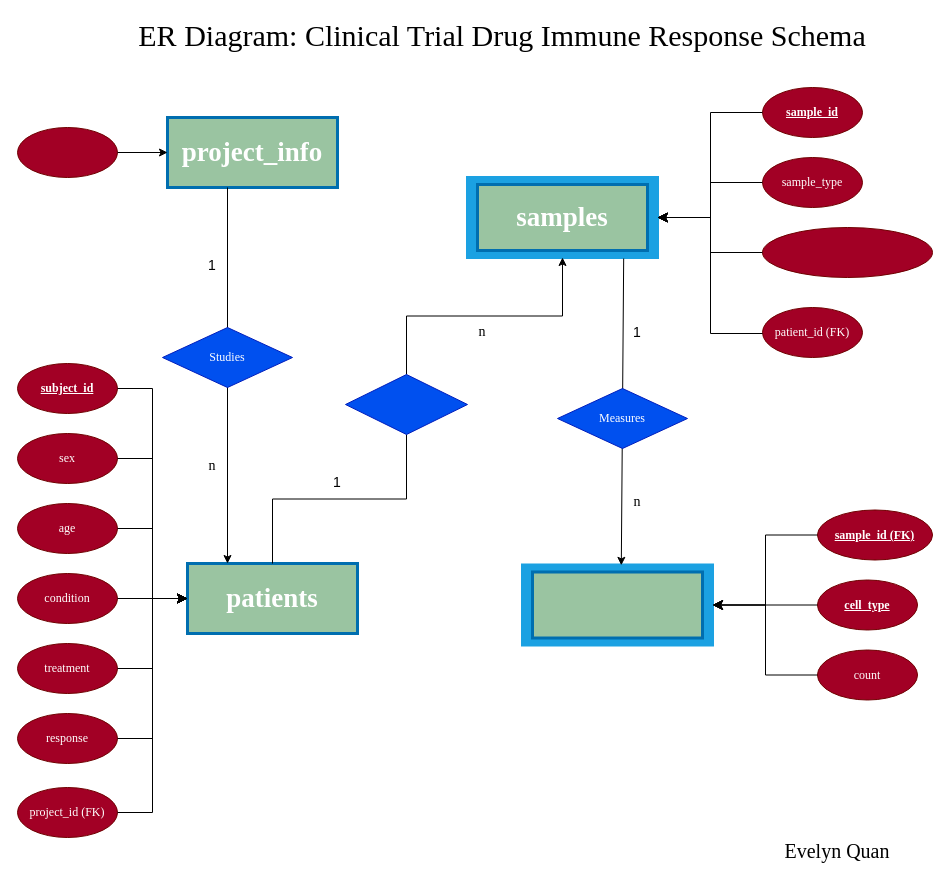
Image size: 950x884. Some labels were removed from this diagram. The shapes that lost their labels are listed below. From the top down, each one's box as (x1, y1, x2, y2) in pixels, then its label:
(16, 126, 118, 178): project_id
(762, 226, 932, 278): time_from_treatment_start
(344, 374, 468, 434): MeasuredBy
(530, 570, 704, 639): cell_counts
